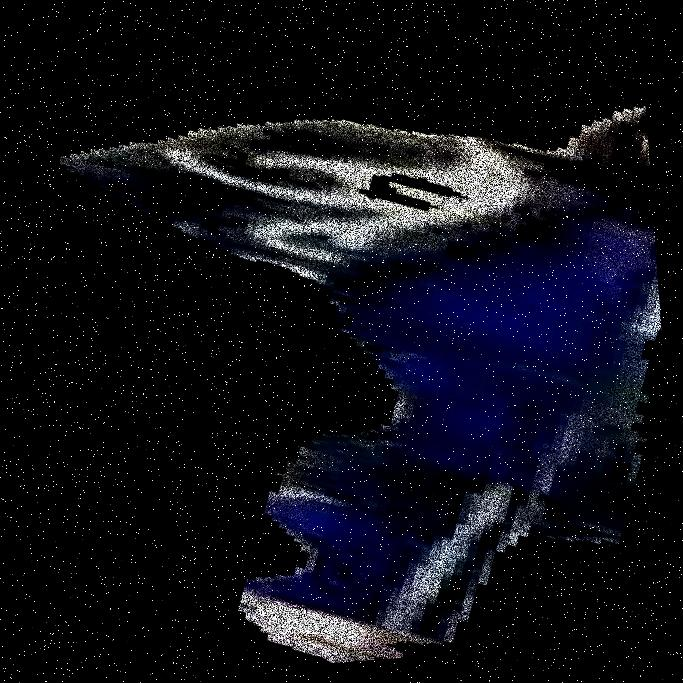Pessoa: (335, 0, 555, 682)
